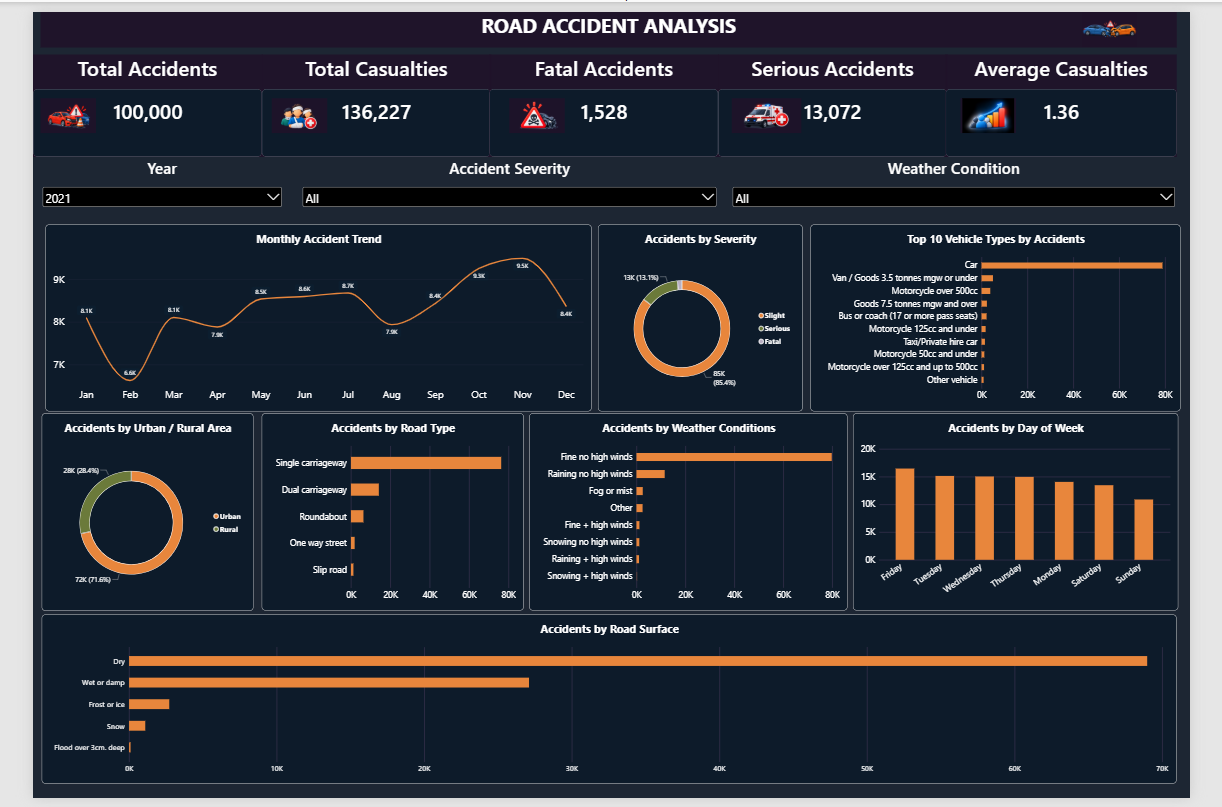

What the dashboard file says about the page in this screenshot:
{"tool":"powerbi","page":{"name":"Page 1","canvas":[2500,1700],"ordinal":0},"visuals":[{"type":"textbox","box":[16.7,0,2456.7,76.7],"z":0},{"type":"cardVisual","title":"Total Accidents","fields":{"Data":["road_accident_cp1 road_accident_cleaned.Total Accidents Display"]},"box":[0,91.3,495.7,221.7],"z":1000},{"type":"cardVisual","title":"Total Casualties","fields":{"Data":["road_accident_cp1 road_accident_cleaned.Total Casualties Display"]},"box":[493.5,91.3,495.7,221.7],"z":2000},{"type":"cardVisual","title":"Fatal Accidents","fields":{"Data":["road_accident_cp1 road_accident_cleaned.Fatal Accidents Display"]},"box":[987,91.3,495.7,221.7],"z":3000},{"type":"cardVisual","title":"Serious Accidents","fields":{"Data":["road_accident_cp1 road_accident_cleaned.Serious Accidents Display"]},"box":[1480.4,91.3,495.7,221.7],"z":4000},{"type":"cardVisual","title":"Average Casualties","fields":{"Data":["road_accident_cp1 road_accident_cleaned.Avg Casualties"]},"box":[1973.9,91.3,500,221.7],"z":5000},{"type":"slicer","title":"Year","fields":{"Values":["road_accident_cp1 road_accident_cleaned.Year"]},"box":[16.7,313.3,526.7,138.9],"z":6000},{"type":"slicer","title":"Accident Severity","fields":{"Values":["road_accident_cp1 road_accident_cleaned.Accident_Severity"]},"box":[577.8,313.3,904.4,138.9],"z":7000},{"type":"slicer","title":"Weather Condition","fields":{"Values":["road_accident_cp1 road_accident_cleaned.Weather_Conditions"]},"box":[1508.9,313.3,965.6,138.9],"z":8000},{"type":"lineChart","title":"Monthly Accident Trend","fields":{"Category":["road_accident_cp1 road_accident_cleaned.Month"],"Y":["road_accident_cp1 road_accident_cleaned.Total Accidents"]},"box":[26.1,460.6,1180.8,403.8],"z":9000},{"type":"donutChart","title":"Accidents by Severity","fields":{"Category":["road_accident_cp1 road_accident_cleaned.Accident_Severity"],"Y":["road_accident_cp1 road_accident_cleaned.Total Accidents"]},"box":[1222.2,460.6,442.3,403.8],"z":10000},{"type":"donutChart","title":"Accidents by Urban / Rural Area","fields":{"Category":["road_accident_cp1 road_accident_cleaned.Urban_or_Rural_Area"],"Y":["road_accident_cp1 road_accident_cleaned.Total Accidents"]},"box":[19.2,868.5,457.7,426.9],"z":11000},{"type":"clusteredBarChart","title":"Accidents by Road Type","fields":{"Category":["road_accident_cp1 road_accident_cleaned.Road_Type"],"Y":["road_accident_cp1 road_accident_cleaned.Total Accidents"]},"box":[493.3,868.5,566.7,426.7],"z":12000},{"type":"clusteredBarChart","title":"Accidents by Weather Conditions","fields":{"Category":["road_accident_cp1 road_accident_cleaned.Weather_Conditions"],"Y":["road_accident_cp1 road_accident_cleaned.Total Accidents"]},"box":[1071.7,868.5,688.3,426.7],"z":13000},{"type":"clusteredBarChart","title":"Top 10 Vehicle Types by Accidents","fields":{"Category":["road_accident_cp1 road_accident_cleaned.Vehicle_Type"],"Y":["road_accident_cp1 road_accident_cleaned.Total Accidents"]},"box":[1679.9,460.6,800,403.8],"z":14000},{"type":"clusteredColumnChart","title":"Accidents by Day of Week","fields":{"Category":["road_accident_cp1 road_accident_cleaned.Day_of_Week"],"Y":["road_accident_cp1 road_accident_cleaned.Total Accidents"]},"box":[1773.3,868.5,703.3,426.7],"z":15000},{"type":"clusteredBarChart","title":"Accidents by Road Surface","fields":{"Category":["road_accident_cp1 road_accident_cleaned.Road_Surface_Conditions"],"Y":["road_accident_cp1 road_accident_cleaned.Total Accidents"]},"box":[19.2,1303.8,2453.8,365.4],"z":16000},{"type":"image","box":[1545.9,0,120,75],"z":16001},{"type":"image","box":[17.1,185.7,120,75],"z":16002},{"type":"image","box":[516.7,186.7,120,75],"z":16003},{"type":"image","box":[1030,186.7,120,75],"z":16004},{"type":"image","box":[1510,186.7,150,75],"z":16005},{"type":"image","box":[2006.7,186.7,120,75],"z":16006}]}

Visuals, with their boxes in screenshot pixels (x1, y1, x2, y2), scaled from the page's 2500x1700 canvas onto the 1222x807 screenshot:
textbox: x1=8 y1=0 x2=1209 y2=36
"Total Accidents" cardVisual: x1=0 y1=43 x2=242 y2=149
"Total Casualties" cardVisual: x1=241 y1=43 x2=484 y2=149
"Fatal Accidents" cardVisual: x1=482 y1=43 x2=725 y2=149
"Serious Accidents" cardVisual: x1=724 y1=43 x2=966 y2=149
"Average Casualties" cardVisual: x1=965 y1=43 x2=1209 y2=149
"Year" slicer: x1=8 y1=149 x2=266 y2=215
"Accident Severity" slicer: x1=282 y1=149 x2=724 y2=215
"Weather Condition" slicer: x1=738 y1=149 x2=1210 y2=215
"Monthly Accident Trend" lineChart: x1=13 y1=219 x2=590 y2=410
"Accidents by Severity" donutChart: x1=597 y1=219 x2=814 y2=410
"Accidents by Urban / Rural Area" donutChart: x1=9 y1=412 x2=233 y2=615
"Accidents by Road Type" clusteredBarChart: x1=241 y1=412 x2=518 y2=615
"Accidents by Weather Conditions" clusteredBarChart: x1=524 y1=412 x2=860 y2=615
"Top 10 Vehicle Types by Accidents" clusteredBarChart: x1=821 y1=219 x2=1212 y2=410
"Accidents by Day of Week" clusteredColumnChart: x1=867 y1=412 x2=1211 y2=615
"Accidents by Road Surface" clusteredBarChart: x1=9 y1=619 x2=1209 y2=792
image: x1=756 y1=0 x2=814 y2=36
image: x1=8 y1=88 x2=67 y2=124
image: x1=253 y1=89 x2=311 y2=124
image: x1=503 y1=89 x2=562 y2=124
image: x1=738 y1=89 x2=811 y2=124
image: x1=981 y1=89 x2=1040 y2=124
